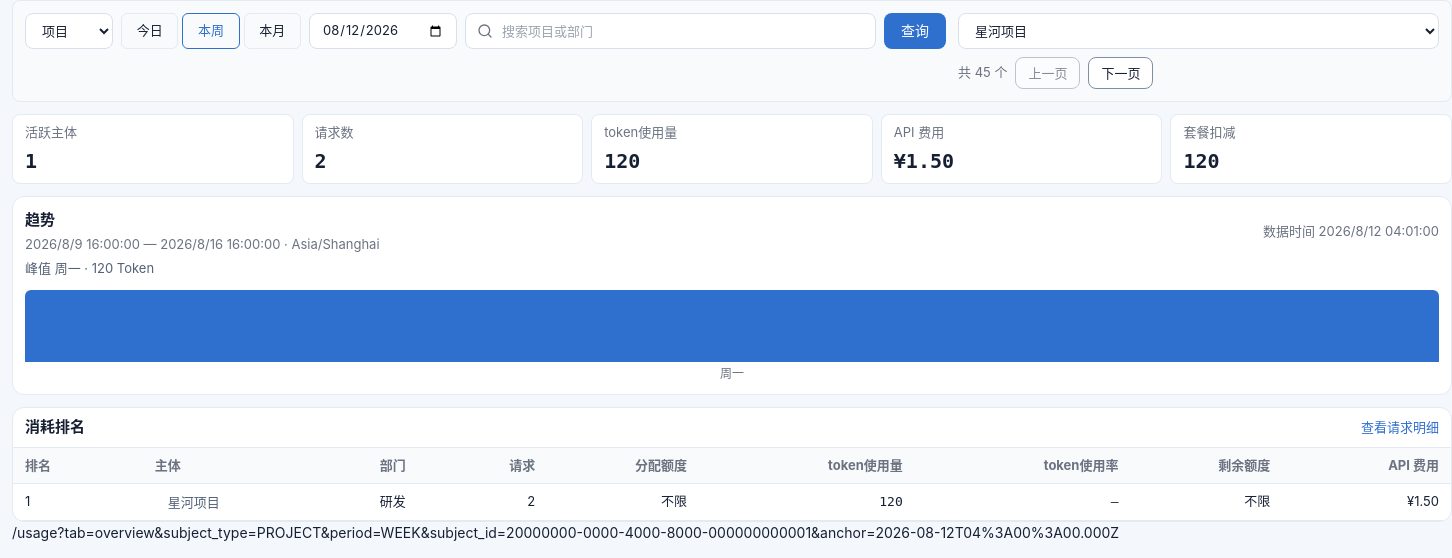
Scenario: W20-04 用量概览 Web › 点击查询与 Enter 使用相同的唯一主体确认，空搜索恢复全部主体
In the search field named "搜索用量主体": (670, 31) [465, 13, 876, 49], type "星河项目"
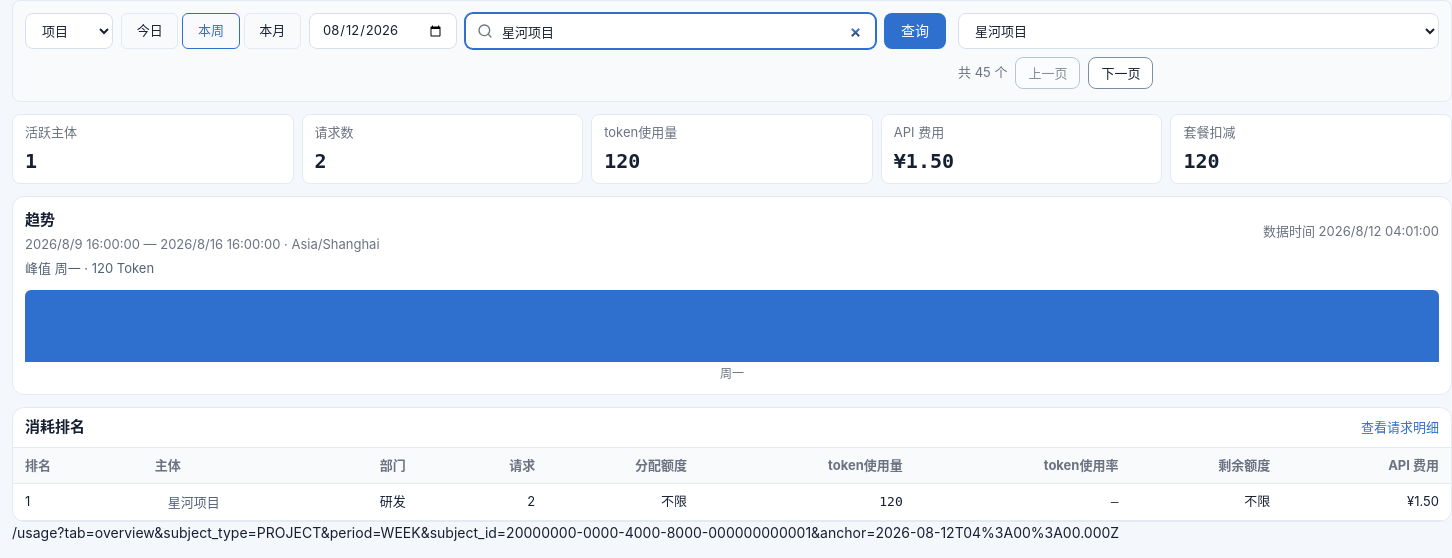
Click the button "查询": (915, 31) [884, 13, 946, 49]
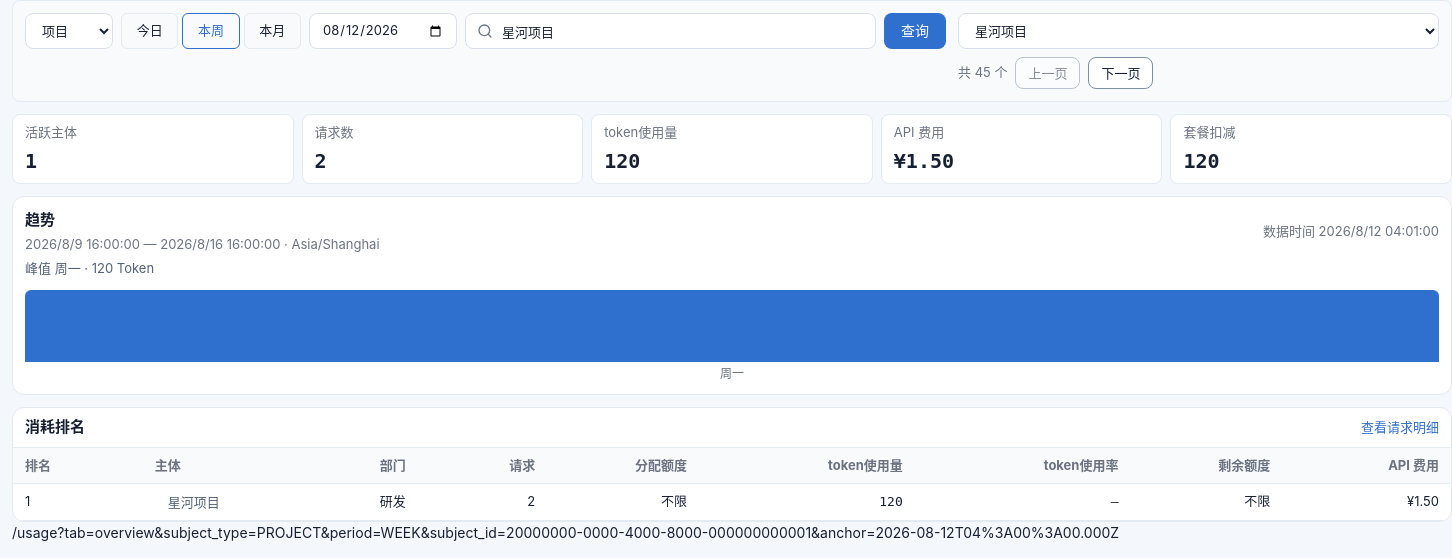
Clear the search field named "搜索用量主体": (670, 31) [465, 13, 876, 49]
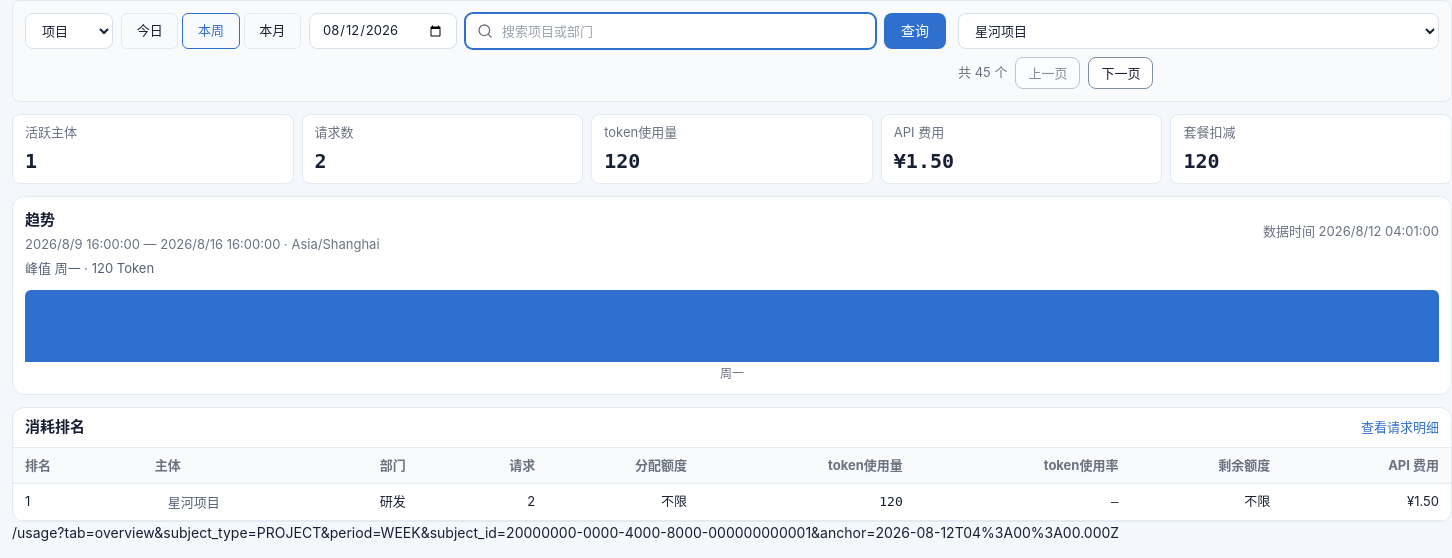
Click the button "查询": (915, 31) [884, 13, 946, 49]
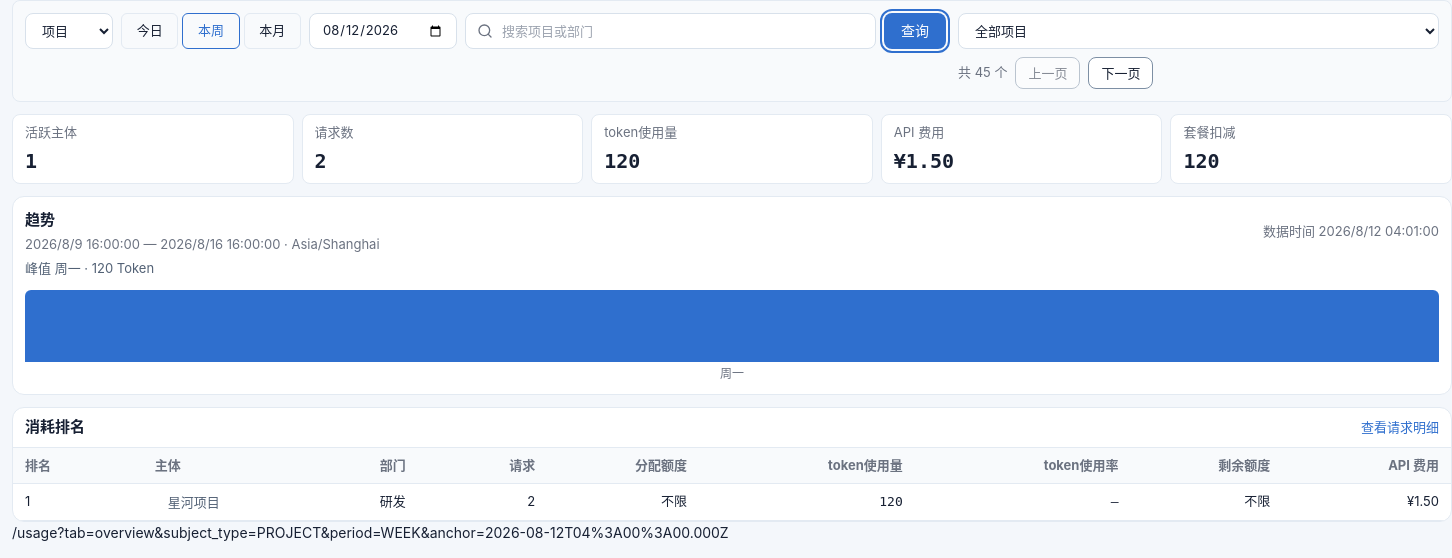
Expected: the text with test id "location" no longer shows "subject_id=", [12, 524, 729, 540]
